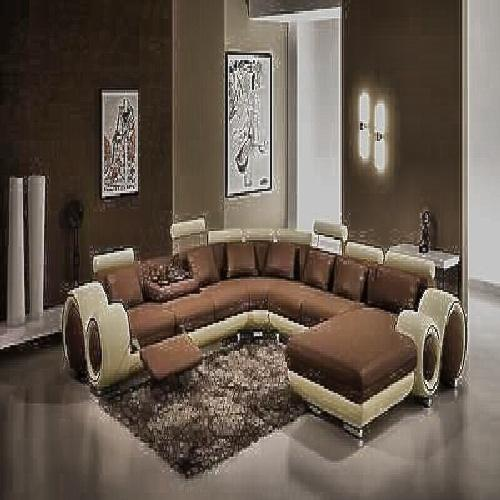sofa: (78, 217, 474, 433)
